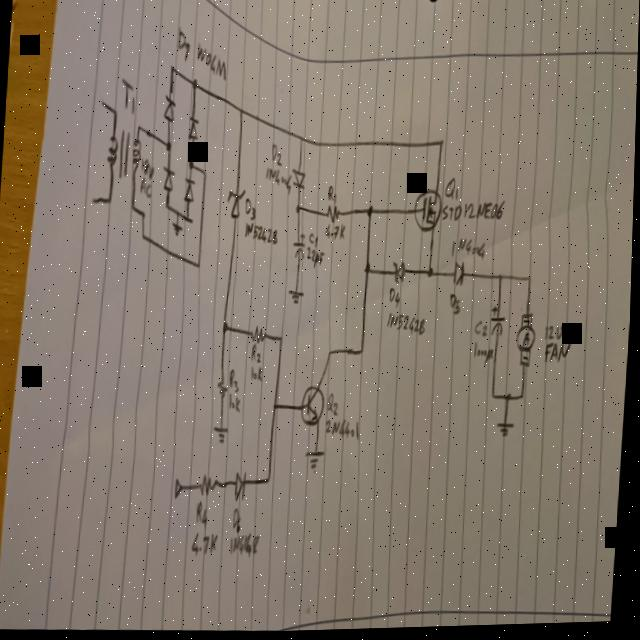capacitor: (489, 306, 507, 339), (291, 232, 307, 261)
diode: (225, 186, 246, 220), (162, 89, 176, 124), (235, 468, 248, 504), (160, 164, 176, 193), (391, 259, 407, 286), (288, 168, 306, 192), (182, 177, 195, 205), (186, 115, 199, 142), (454, 260, 465, 288)
ground: (306, 449, 326, 474), (497, 420, 516, 439), (214, 424, 231, 445), (288, 288, 305, 307), (170, 220, 184, 236)
junction: (437, 137, 445, 151), (363, 263, 372, 275), (266, 472, 273, 487), (190, 77, 198, 90), (505, 393, 513, 405), (187, 157, 194, 170), (427, 267, 434, 279), (164, 139, 171, 151), (358, 346, 365, 358), (135, 120, 142, 132), (223, 320, 229, 333), (367, 206, 373, 218), (273, 400, 279, 412), (520, 392, 526, 404), (491, 391, 498, 401), (297, 133, 304, 143), (526, 275, 532, 286), (168, 62, 174, 73), (175, 208, 182, 217), (295, 203, 301, 213), (106, 194, 112, 204), (327, 348, 333, 358), (497, 273, 503, 283), (237, 105, 243, 115), (164, 200, 170, 210), (111, 106, 117, 116), (140, 231, 146, 240), (185, 213, 191, 222), (196, 260, 201, 270), (141, 209, 146, 218), (202, 168, 207, 177), (279, 334, 284, 342), (130, 202, 134, 210)
resistor: (199, 473, 221, 497), (250, 324, 268, 345), (326, 204, 341, 224), (217, 377, 230, 400)
terminal: (175, 474, 185, 500), (99, 96, 105, 109), (90, 194, 96, 204)
text: (441, 200, 506, 226), (194, 39, 228, 82), (386, 310, 428, 339), (325, 416, 363, 443), (230, 529, 263, 559), (451, 236, 486, 264), (244, 221, 280, 247), (264, 166, 292, 196), (118, 75, 137, 116), (193, 530, 221, 557), (544, 341, 572, 366), (473, 342, 495, 367), (175, 28, 191, 62), (305, 245, 326, 270), (324, 222, 347, 242), (443, 175, 460, 202), (544, 324, 566, 344), (197, 499, 212, 528), (270, 141, 284, 168), (388, 282, 403, 307), (139, 155, 154, 180), (138, 175, 153, 199), (232, 506, 245, 532), (473, 320, 490, 339), (327, 393, 341, 416), (229, 367, 241, 393), (229, 392, 243, 414), (449, 293, 462, 316), (244, 197, 257, 220), (251, 343, 263, 363), (251, 365, 264, 383), (327, 185, 337, 204), (308, 232, 319, 249)
transformer: (104, 126, 143, 180)
transistor: (412, 188, 443, 236), (300, 383, 327, 429)
